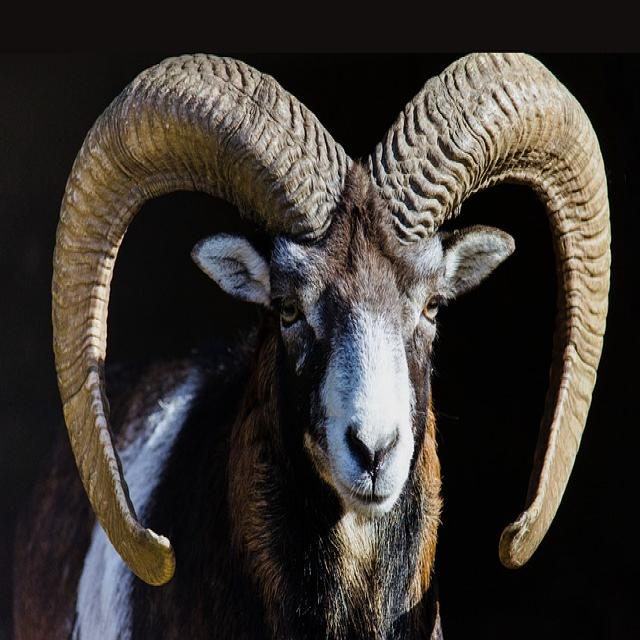goat: (16, 56, 608, 638)
